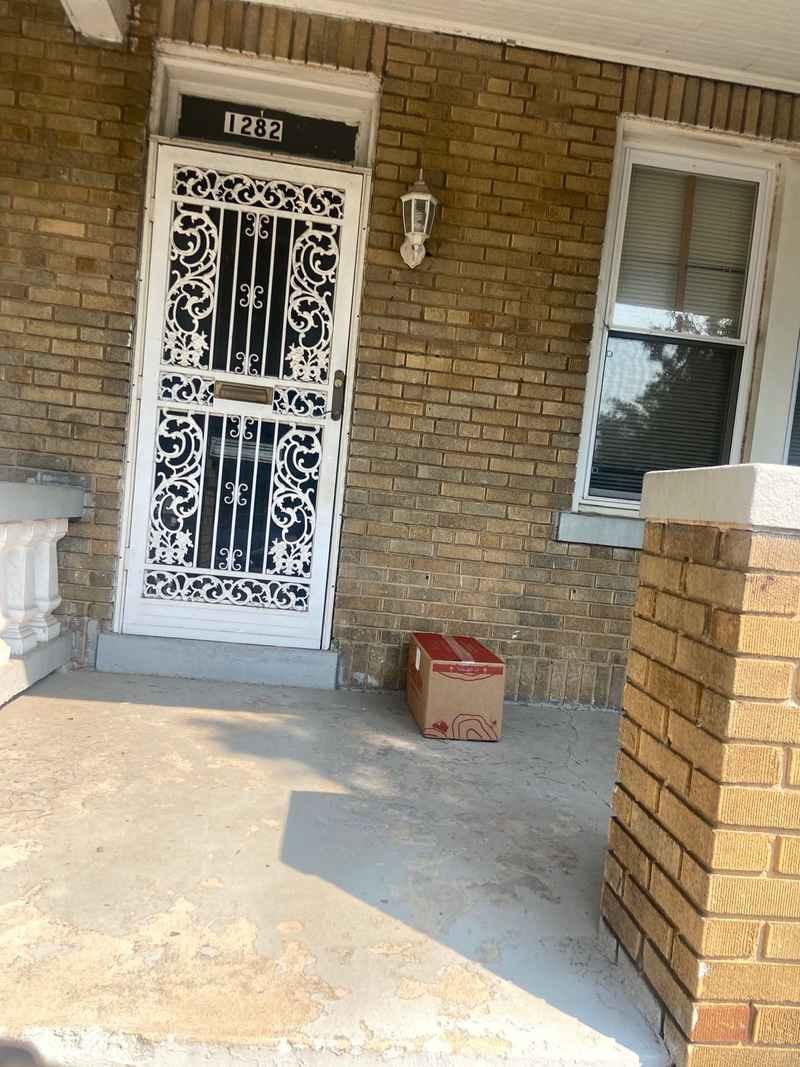package: (397, 622, 518, 748)
